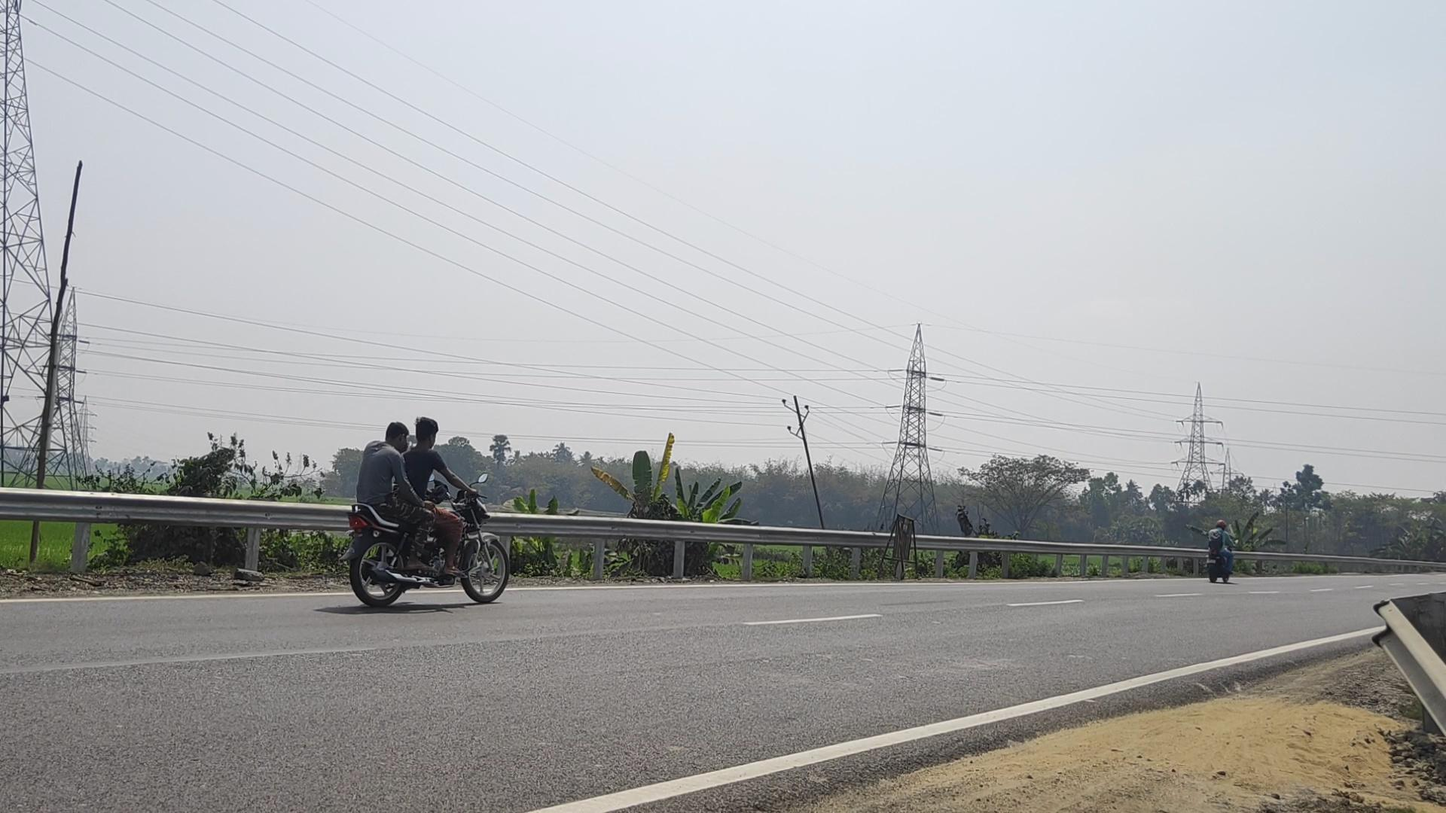bike: (340, 417, 510, 607), (1207, 519, 1239, 583)
